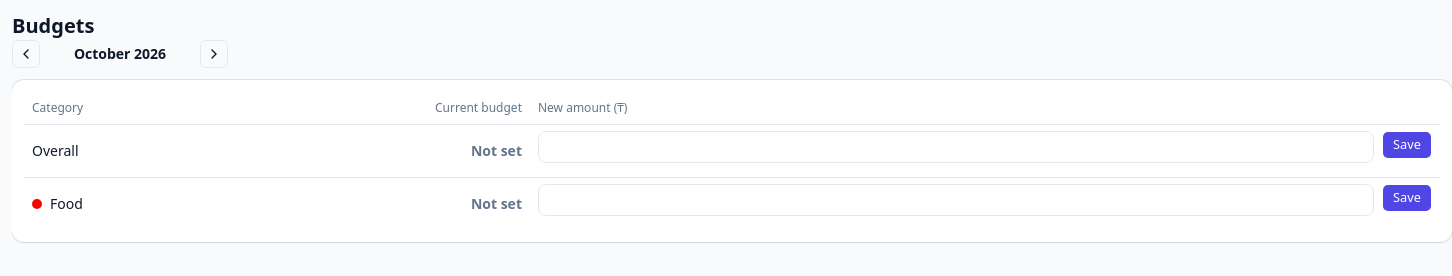
Test: month picker on pages › budgets refetches for another month and saves to that month
expect the field named "Food budget in tenge" in the row of "Food" is shown: met, box 538,184 -> 1374,216
Click the button named "Next month" at point(214, 54), box 200,40 -> 228,68
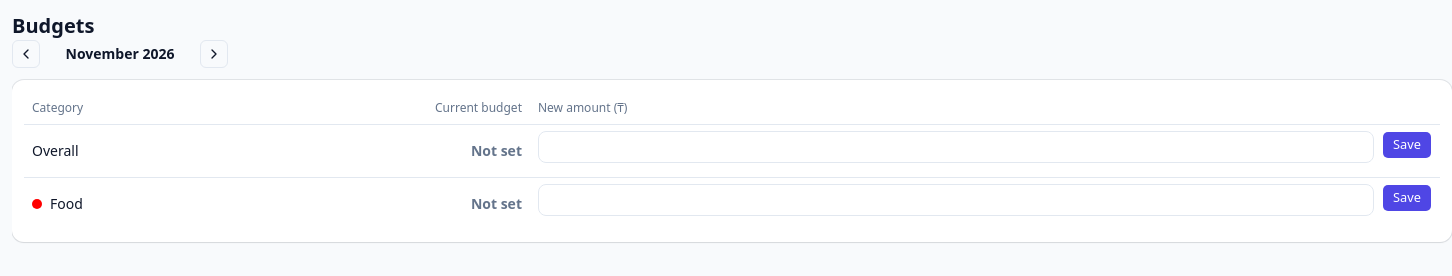
expect the text "November 2026" is shown: met, box 66,44 -> 174,63
Type "500" into the field named "Food budget in tenge" in the row of "Food" at point(956, 200), box 538,184 -> 1374,216
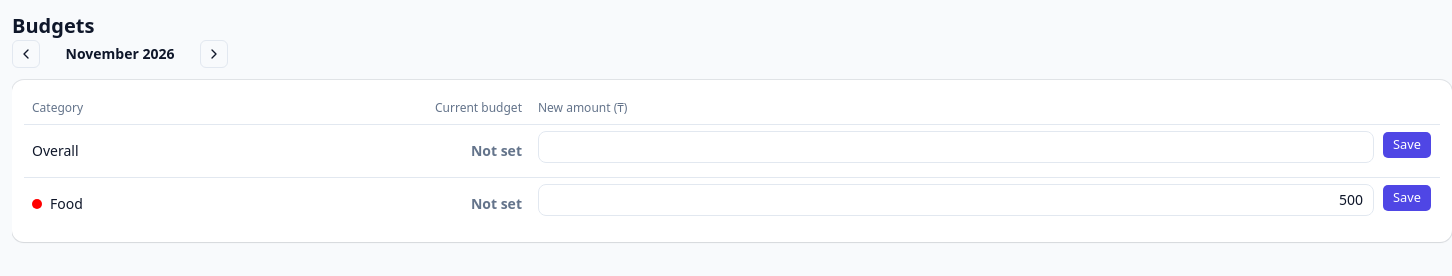
Click the button with aria-label "Save Food budget" at point(1407, 198), box 1382,184 -> 1432,212
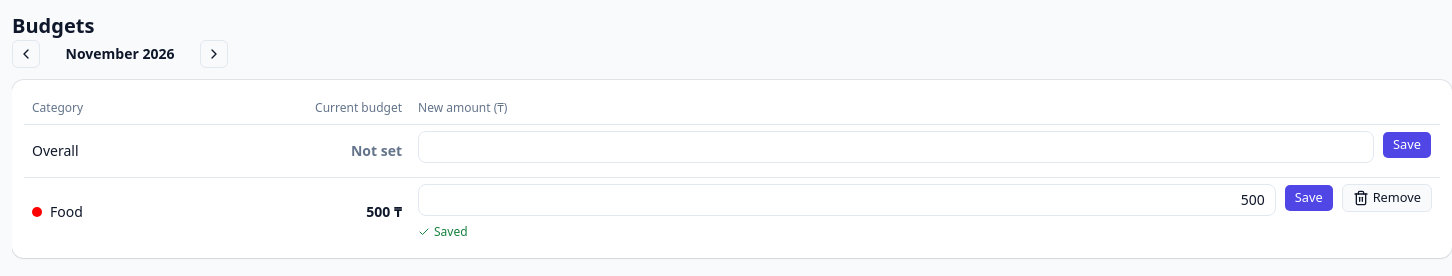
expect the text "Saved" is shown: met, box 418,222 -> 468,240
